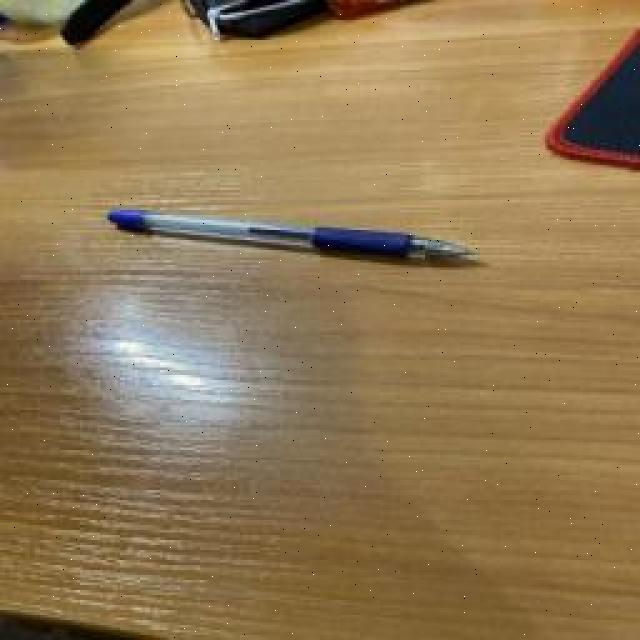pen: (105, 208, 480, 262)
